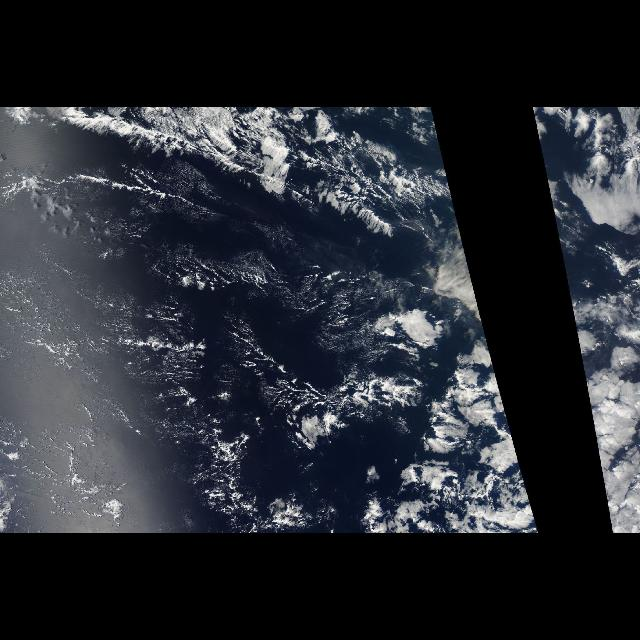Sugar: (27, 204, 383, 511)
